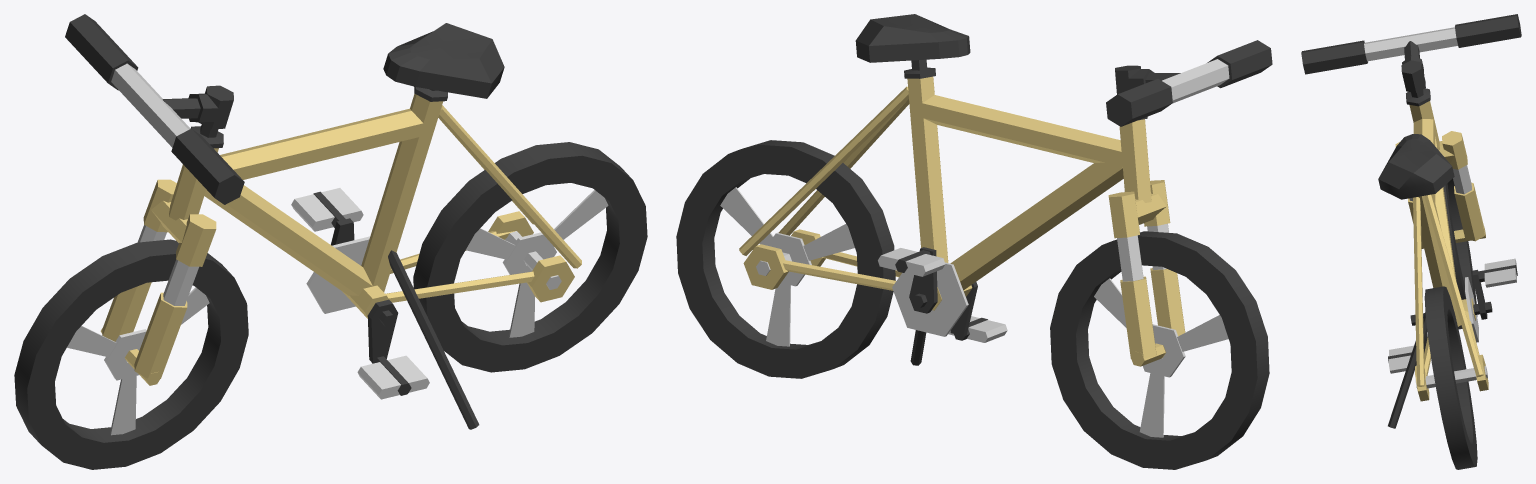
File: parked_bike.fbx
3 renders of one model, left to right at view 1: azimuth 30°, elevation 25°; view 2: azimuth 150°, elevation 25°; view 3: azimuth 270°, elevation 25°, orthographic. The views are drawn at different scales.
Visible parts, largest first — view 1: pPipe1, pPipe3, pCylinder28, pCylinder4, pCylinder1, pCylinder3, pCylinder31, pCylinder10, pCylinder11, pCylinder30, pCylinder8, pCylinder32 (+19 smaller); view 2: pPipe1, pPipe3, pCylinder4, pCylinder3, pCylinder1, pCylinder28, pCylinder11, pCylinder10, pCylinder31, pCylinder18, pCylinder5, pCylinder8 (+15 smaller); view 3: pPipe3, pCylinder28, pCylinder31, pCylinder11, pCylinder30, pPipe1, pCylinder1, pCylinder10, pCylinder32, pCylinder22, pCylinder8, pCylinder3 (+11 smaller).
Boxes of the visible parts, x1=… form: pPipe1: x1=14, y1=239, x2=248, y2=469; pPipe3: x1=413, y1=142, x2=647, y2=372; pCylinder28: x1=383, y1=23, x2=504, y2=98; pCylinder4: x1=201, y1=108, x2=425, y2=190; pCylinder1: x1=361, y1=93, x2=443, y2=292; pCylinder3: x1=204, y1=185, x2=372, y2=295; pCylinder31: x1=65, y1=14, x2=244, y2=204; pCylinder10: x1=102, y1=282, x2=187, y2=378; pCylinder11: x1=438, y1=105, x2=581, y2=268; pCylinder30: x1=111, y1=63, x2=190, y2=147; pCylinder8: x1=143, y1=179, x2=216, y2=266; pCylinder32: x1=388, y1=250, x2=479, y2=429; pPipe1: x1=1050, y1=231, x2=1269, y2=469; pPipe3: x1=676, y1=140, x2=895, y2=378; pCylinder4: x1=918, y1=95, x2=1129, y2=167; pCylinder3: x1=950, y1=161, x2=1123, y2=290; pCylinder1: x1=907, y1=76, x2=948, y2=262; pCylinder28: x1=855, y1=14, x2=970, y2=62; pCylinder11: x1=739, y1=86, x2=909, y2=255; pCylinder10: x1=1120, y1=268, x2=1185, y2=358; pCylinder31: x1=1106, y1=40, x2=1272, y2=126; pCylinder18: x1=892, y1=262, x2=968, y2=336; pCylinder5: x1=1119, y1=119, x2=1151, y2=202; pCylinder8: x1=1108, y1=180, x2=1170, y2=238; pPipe3: x1=1424, y1=286, x2=1477, y2=469; pCylinder28: x1=1378, y1=134, x2=1454, y2=199; pCylinder31: x1=1301, y1=14, x2=1521, y2=74; pCylinder11: x1=1413, y1=194, x2=1483, y2=386; pCylinder30: x1=1364, y1=27, x2=1457, y2=61; pPipe1: x1=1443, y1=178, x2=1477, y2=329; pCylinder1: x1=1412, y1=194, x2=1461, y2=326; pCylinder10: x1=1408, y1=182, x2=1484, y2=248; pCylinder32: x1=1388, y1=312, x2=1427, y2=428; pCylinder22: x1=1484, y1=258, x2=1516, y2=287; pCylinder8: x1=1395, y1=131, x2=1467, y2=169; pCylinder3: x1=1435, y1=129, x2=1456, y2=280.
Bounding box in the file's own units: 116 × 75.72 × 49.29.
